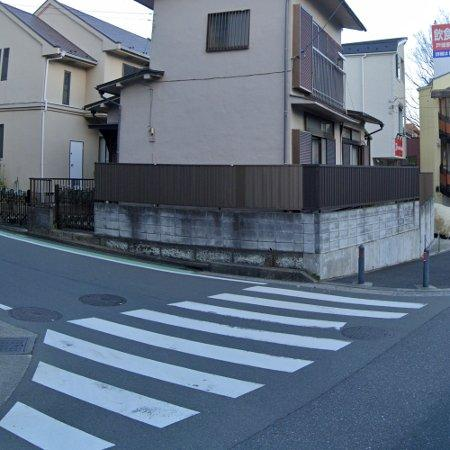crosswalks: (0, 283, 428, 450)
